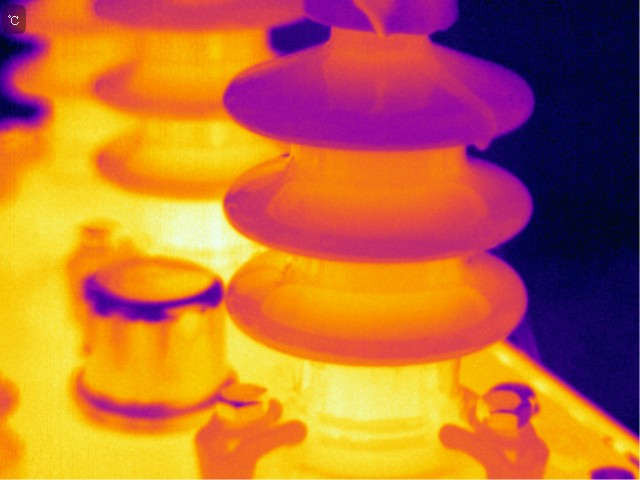Oil: (435, 67, 509, 126), (353, 3, 392, 42), (474, 136, 492, 153)
